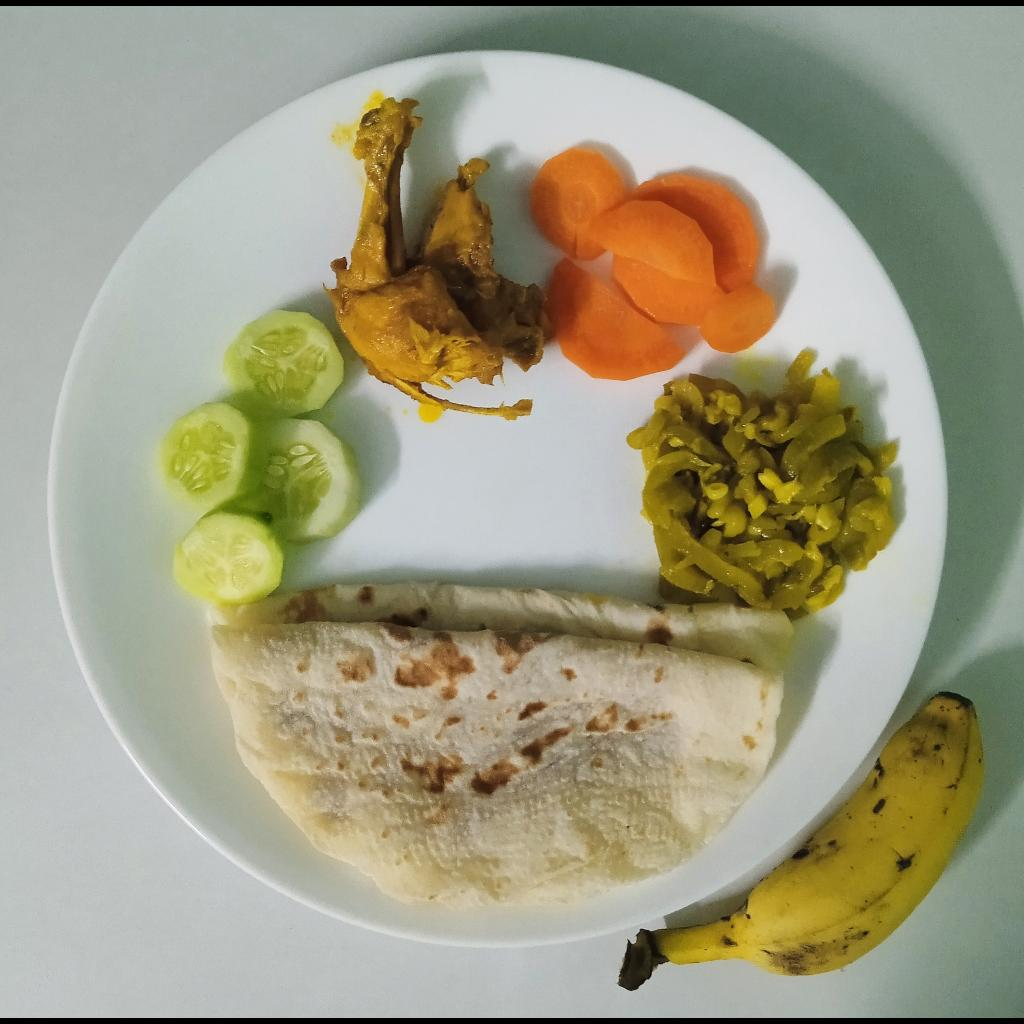banana: (617, 688, 989, 994)
carrot: (527, 144, 780, 380)
chichinga-vaji: (624, 343, 899, 619)
chicken: (316, 94, 555, 419)
cucumber: (154, 306, 361, 610)
ruti: (212, 583, 796, 912)
